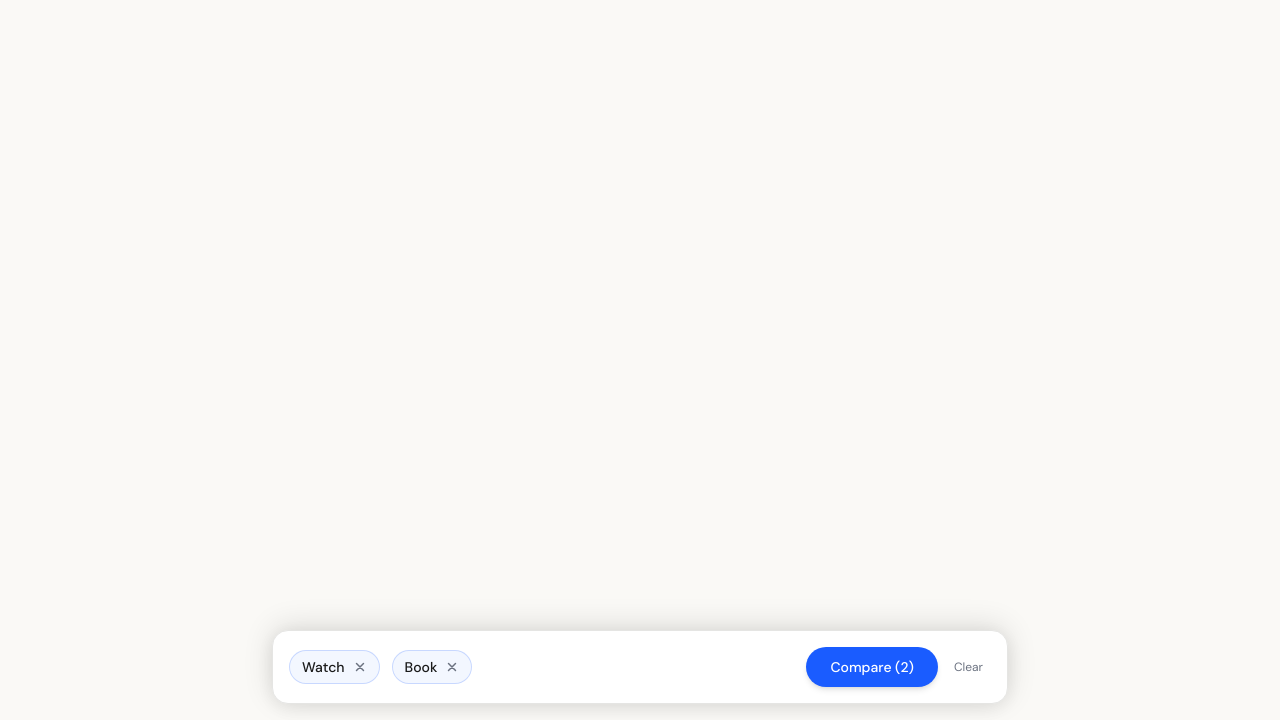
Test: CompareBar › expands to show comparison table
Click the button "Compare (2)". click: (872,667)
box: left=806, top=647, right=938, bottom=687
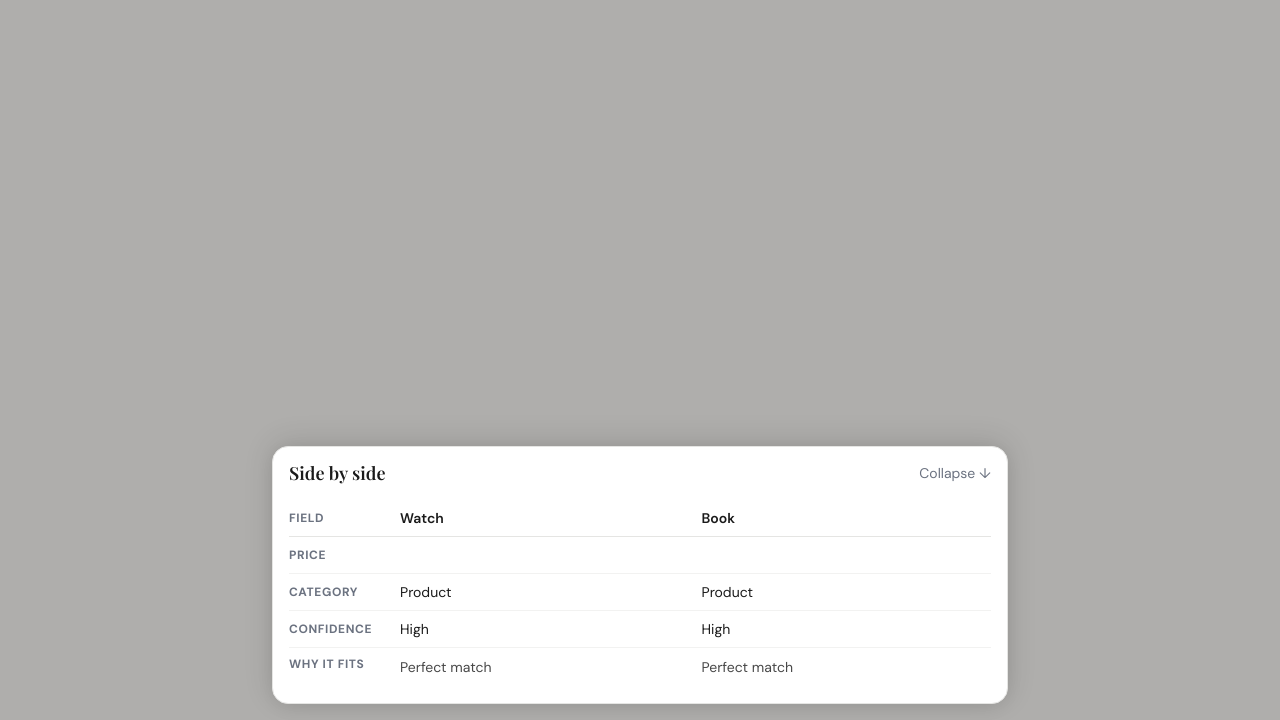
Expected: the heading "Side by side" is shown, left=289, top=463, right=386, bottom=484
Expected: the text "Price" is shown, left=289, top=537, right=388, bottom=574
Expected: the text "Category" is shown, left=289, top=574, right=388, bottom=611
